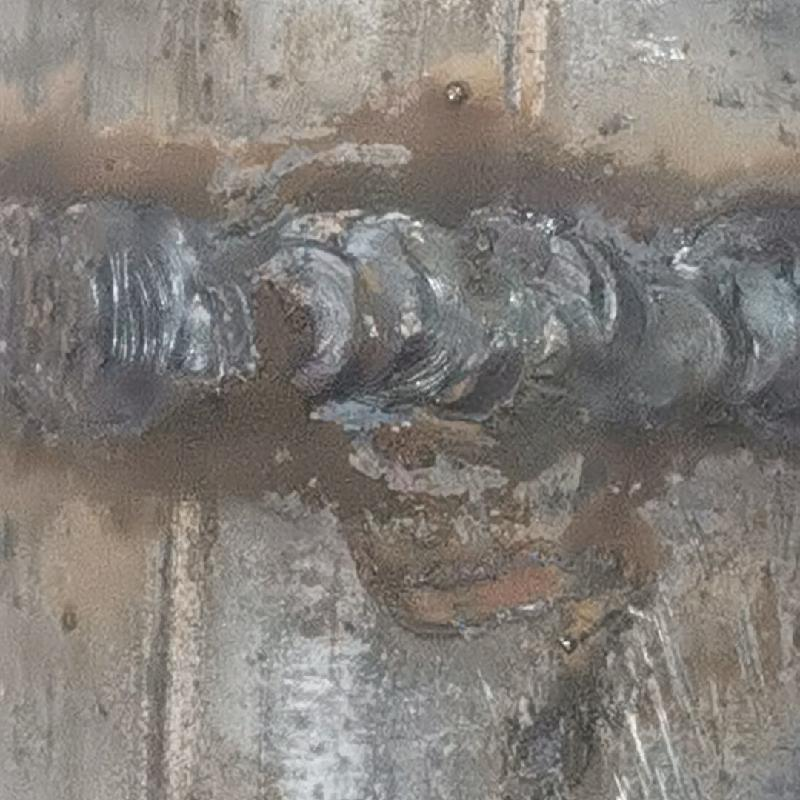good: (1, 185, 799, 444)
